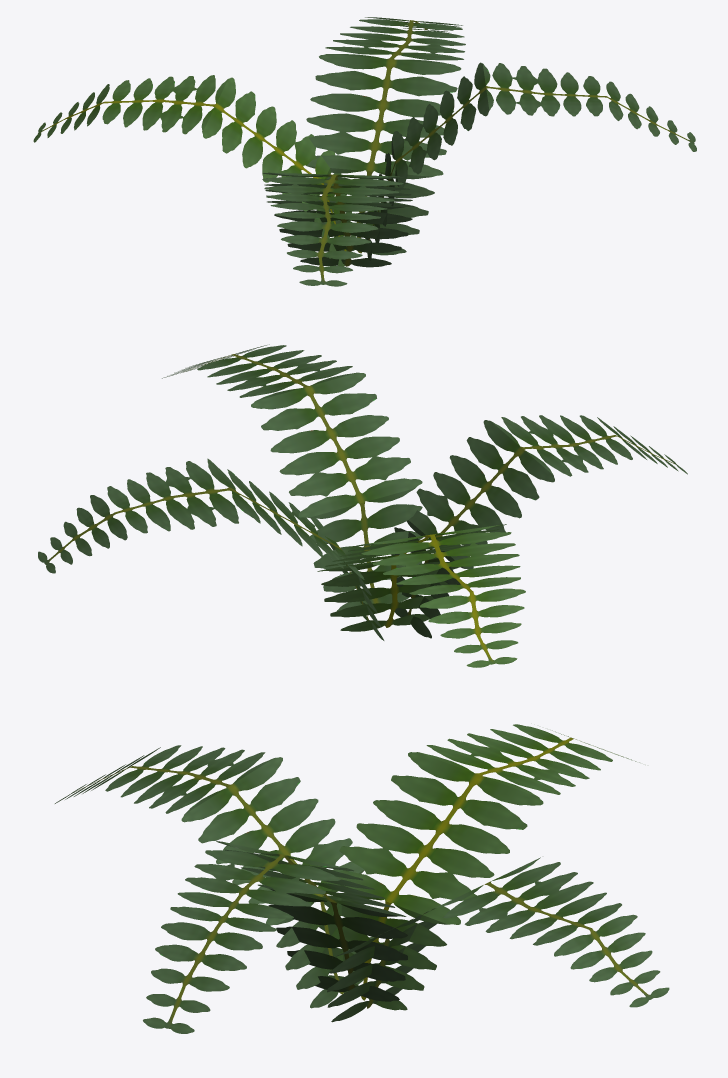
Rendered from fern-5.glb.
The picture shows the model from 3 angles, top to bottom: view 1: azimuth 30°, elevation 25°; view 2: azimuth 150°, elevation 25°; view 3: azimuth 270°, elevation 25°; orthographic projection. The views are drawn at different scales.
Parts seen in each view (by area): view 1: fern_5; view 2: fern_5; view 3: fern_5.
Part boxes in pixels (x1,y1,x2,y2): fern_5: (33, 17, 696, 286); fern_5: (38, 344, 687, 667); fern_5: (55, 724, 669, 1033).
Bounding box in the file's own units: 12.53 × 4.21 × 11.2.
1 material, 1 textured.
